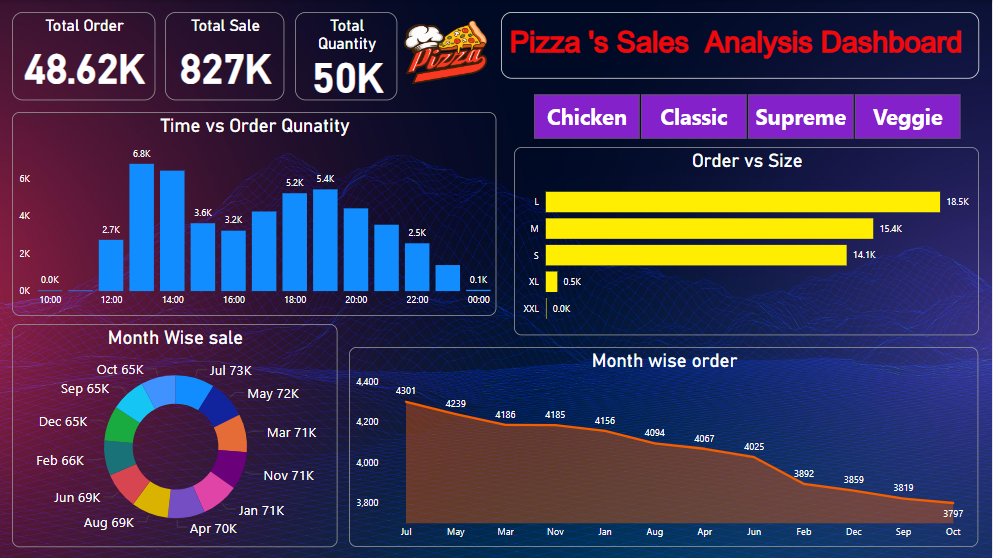

What the dashboard file says about the page in this screenshot:
{"tool":"powerbi","page":{"name":"Page 1","canvas":[1280,720],"ordinal":0},"visuals":[{"type":"card","title":"Total Order","fields":{"Values":["CountNonNull(pizza_sales.order_id)"]},"box":[15.4,15.4,184.6,113.8],"z":0},{"type":"card","title":"Total Quantity","fields":{"Values":["pizza_sales.Total Quantity"]},"box":[380,15.4,132.3,113.8],"z":1000},{"type":"card","title":"Total Sale","fields":{"Values":["pizza_sales.Total Sale"]},"box":[212.3,15.4,153.8,113.8],"z":2000},{"type":"clusteredBarChart","title":"Order vs Size","fields":{"Category":["pizza_sales.pizza_size"],"Y":["CountNonNull(pizza_sales.order_id)"]},"box":[663.1,189.2,600,243.1],"z":3000},{"type":"donutChart","title":"Month Wise sale ","fields":{"Category":["pizza_sales.month"],"Y":["Sum(pizza_sales.total_price)"]},"box":[15.4,418.5,420,287.7],"z":4000},{"type":"columnChart","title":"Time vs Order Qunatity","fields":{"Category":["pizza_sales.time"],"Y":["Sum(pizza_sales.quantity)"]},"box":[15.4,144.6,624.6,263.1],"z":5000},{"type":"areaChart","title":"Month wise order","fields":{"Category":["pizza_sales.month"],"Y":["CountNonNull(pizza_sales.order_id)"]},"box":[450.8,447.7,812.3,258.5],"z":6000},{"type":"slicer","fields":{"Values":["pizza_sales.pizza_category"]},"box":[663.1,115.4,600,70.8],"z":7000},{"type":"textbox","box":[646.2,15.4,616.9,86.2],"z":8000},{"type":"image","box":[506.2,0,138.5,129.2],"z":9000}]}

Visuals, with their boxes in screenshot pixels (x1, y1, x2, y2), scaled from the page's 1280x720 canvas onto the 993x558 screenshot:
"Total Order" card: 12,12,155,100
"Total Quantity" card: 295,12,397,100
"Total Sale" card: 165,12,284,100
"Order vs Size" clusteredBarChart: 514,147,980,335
"Month Wise sale " donutChart: 12,324,338,547
"Time vs Order Qunatity" columnChart: 12,112,496,316
"Month wise order" areaChart: 350,347,980,547
slicer - pizza_sales.pizza_category: 514,89,980,144
textbox: 501,12,980,79
image: 393,0,500,100
